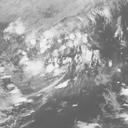cyclone: (27, 29, 91, 86)
